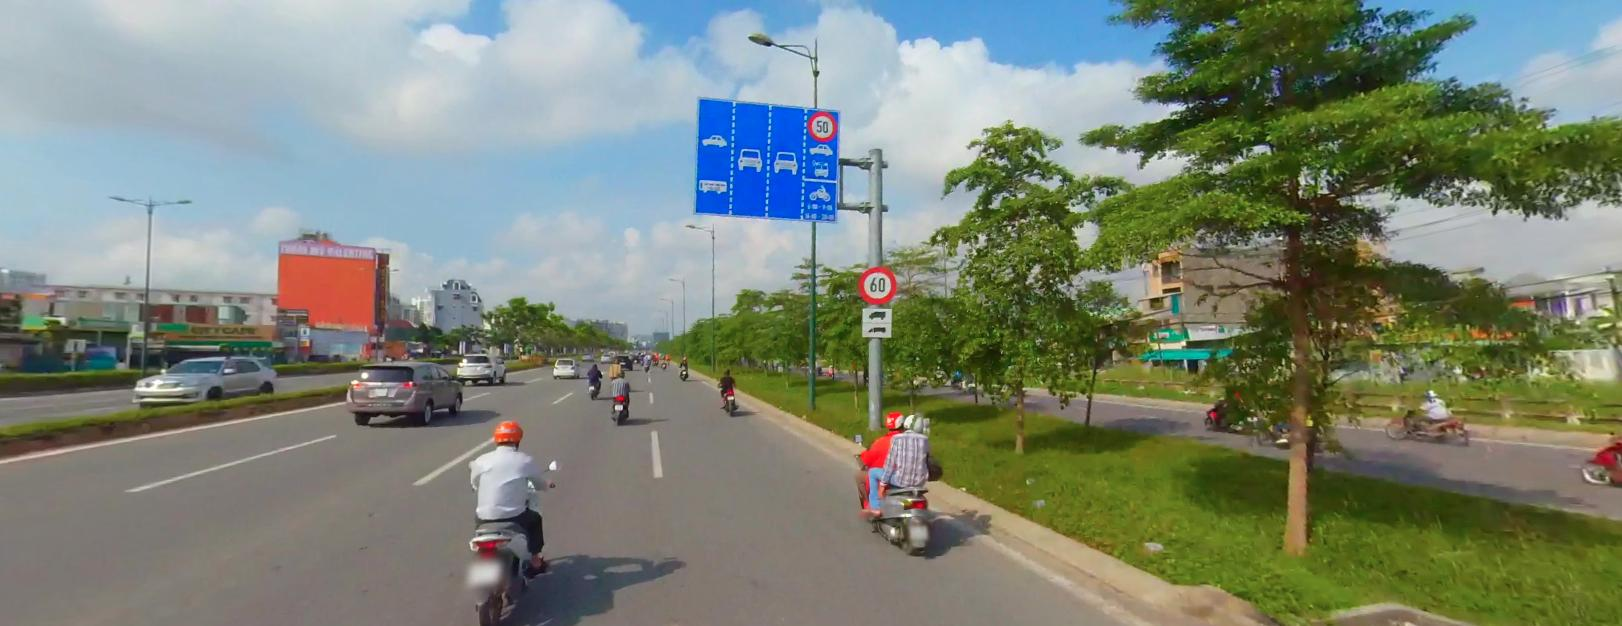Gioi han toc do: (857, 263, 896, 303), (859, 264, 897, 303), (859, 265, 896, 302), (857, 266, 896, 301), (859, 266, 896, 302), (808, 108, 839, 141), (807, 108, 838, 140), (808, 110, 836, 140), (807, 110, 835, 140), (808, 110, 835, 140)
